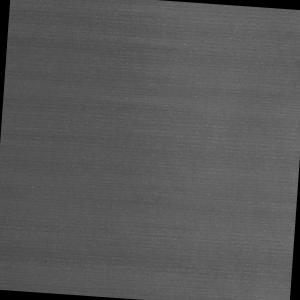Wrinkle: (1, 237, 214, 289)
